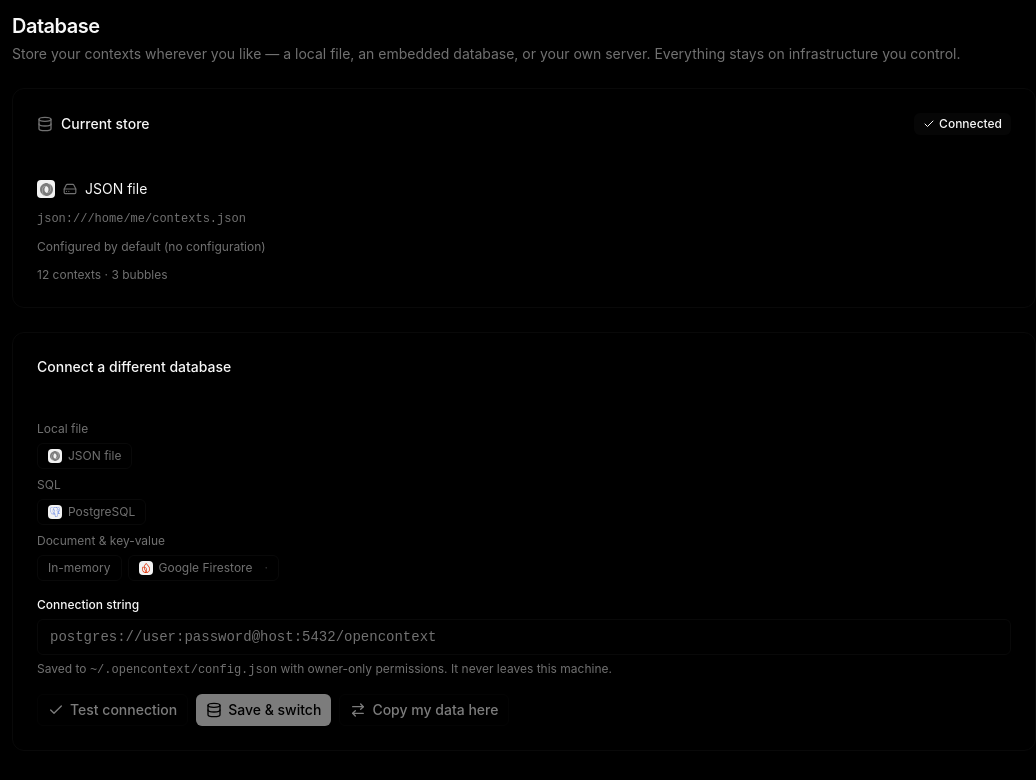
it: DatabaseSettings › fills the connection field from the adapter template when one is picked
The image size is (1036, 780).
Click the button "PostgreSQL".
click(92, 512)  # box left=37, top=499, right=146, bottom=525
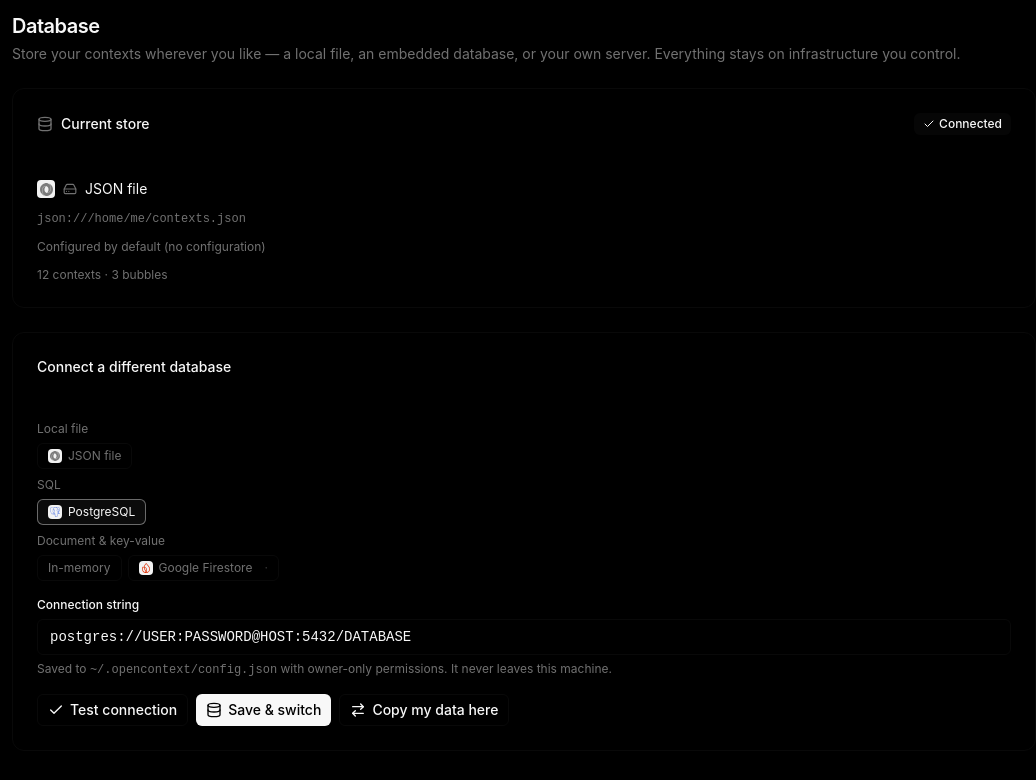
Result: the field labelled "Connection string" holds "postgres://USER:PASSWORD@HOST:5432/DATABASE" at left=37, top=619, right=1011, bottom=655
